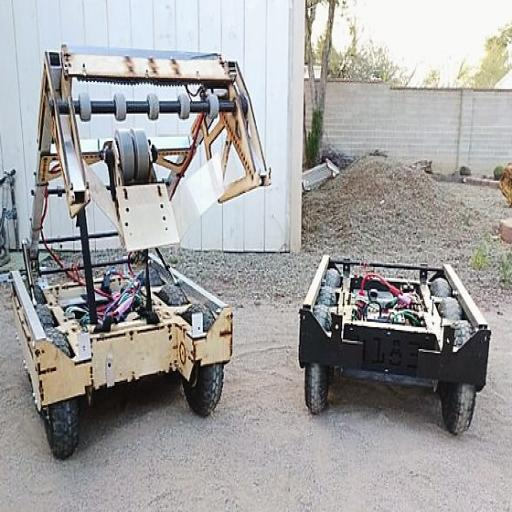robot: (6, 36, 232, 454), (293, 242, 491, 452)
